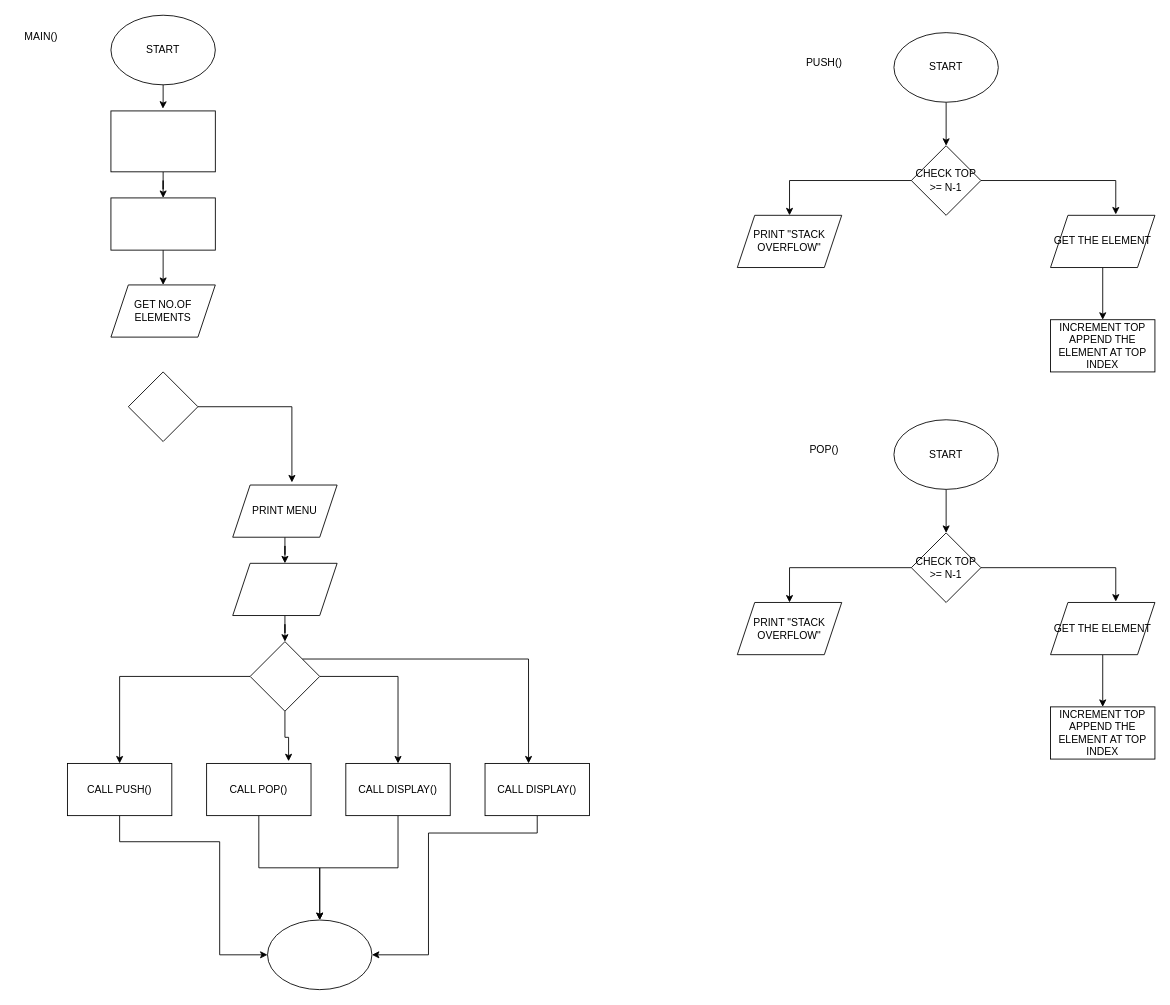
The diagram is 1170 pixels wide and 1005 high, and some of its shapes have lost their labels. Here are the shapes that lost their labels. From the top down, the centre of each, then its label:
pixel 162 141: DECLARE STACK ARRAY, CHOICE, N, TOP, X, I, MAX
pixel 162 223: TOP = -1
pixel 162 406: IF NO.OF ELEMENT > MAX
pixel 284 589: GET CHOICE
pixel 284 676: CHECK CHOICE
pixel 319 954: END
